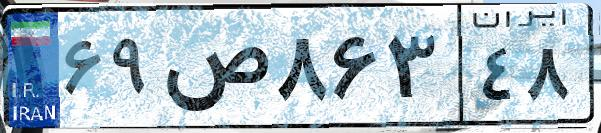3: (385, 28, 445, 110)
4: (475, 38, 525, 113)
6: (330, 28, 385, 110), (57, 26, 110, 100)
8: (270, 28, 330, 110), (525, 38, 570, 115)
9: (110, 28, 158, 98)
ص: (158, 20, 270, 120)
